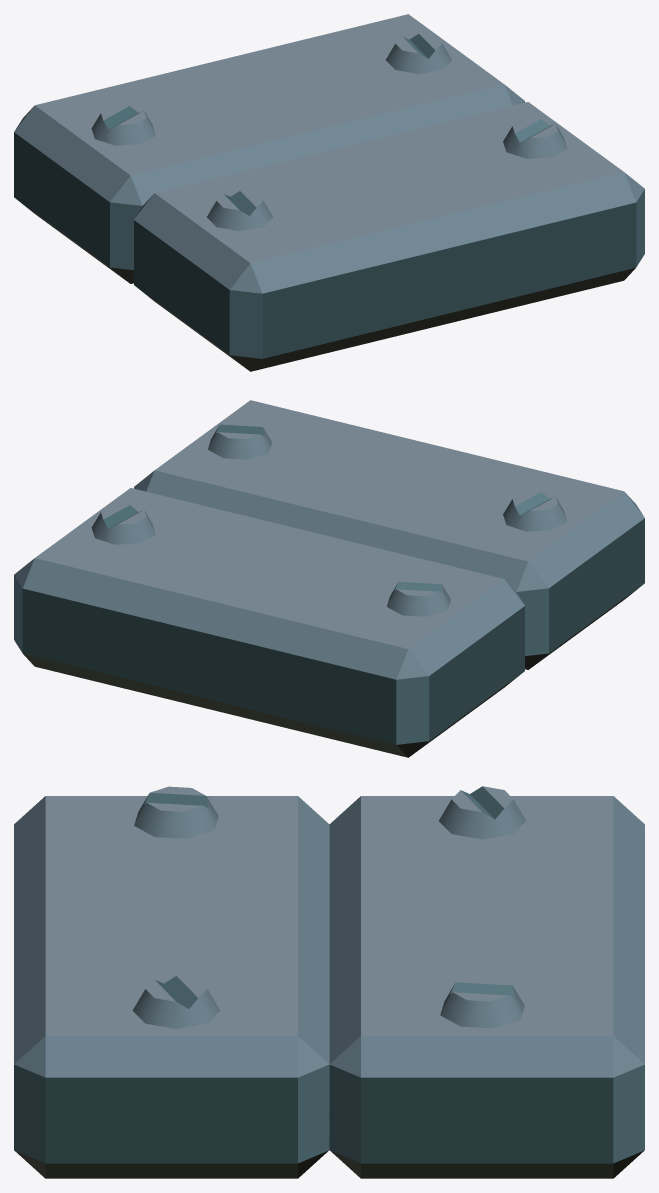
Rendered from m_kub_metal_flatTwoBrick.FBX.
3 views of the same model, one above another, from view 1: azimuth 30°, elevation 25°; view 2: azimuth 150°, elevation 25°; view 3: azimuth 270°, elevation 25° (orthographic). The views are drawn at different scales.
Parts seen in each view (by area): view 1: m_kub_metal_flatTwoBrick; view 2: m_kub_metal_flatTwoBrick; view 3: m_kub_metal_flatTwoBrick.
Boxes of the visible parts, x1=… form: m_kub_metal_flatTwoBrick: x1=14, y1=14, x2=644, y2=371; m_kub_metal_flatTwoBrick: x1=14, y1=400, x2=644, y2=757; m_kub_metal_flatTwoBrick: x1=14, y1=786, x2=644, y2=1178.
Bounding box in the file's own units: 2 × 0.5761 × 2.
